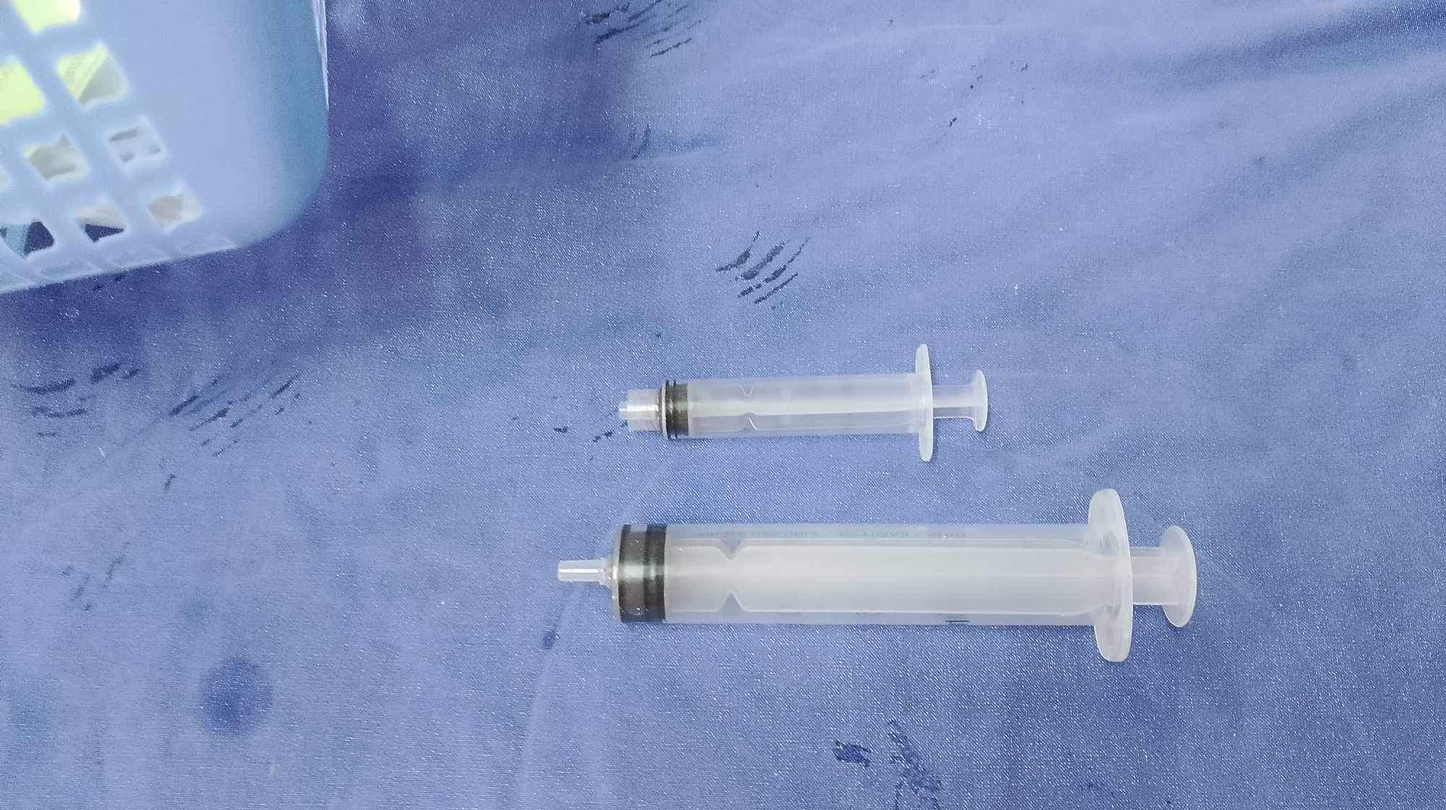Sharps: (556, 487, 1199, 662), (617, 342, 991, 462)
